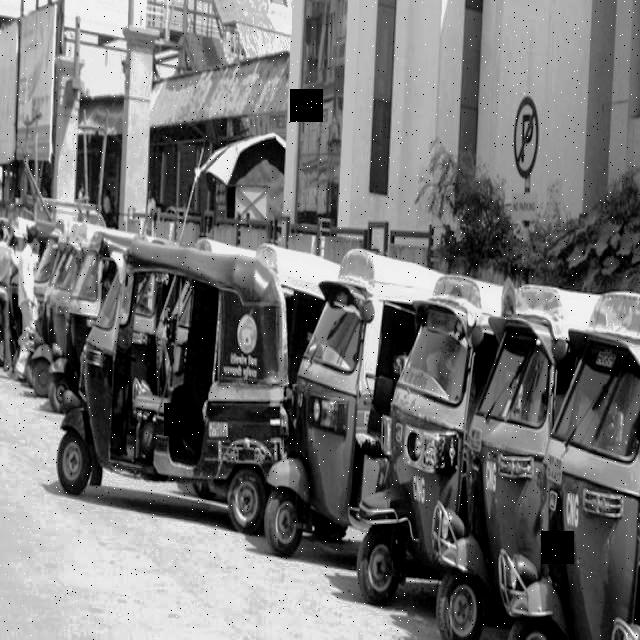Auto-Rickshaw: (407, 276, 639, 640), (75, 208, 287, 541), (293, 252, 445, 640)
